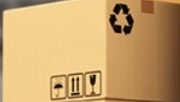stock: (3, 1, 180, 100)
